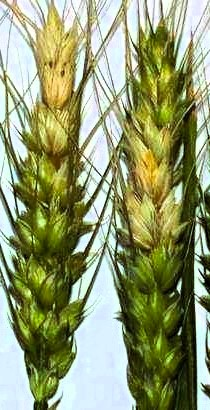Wheat scab: (104, 28, 210, 410)
